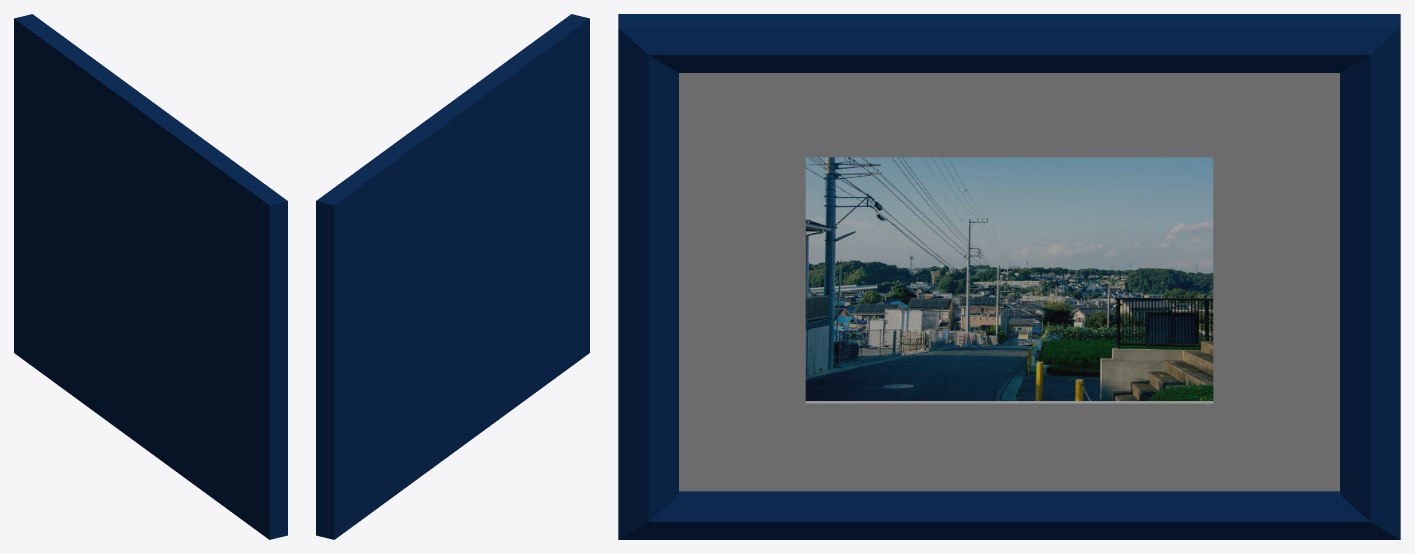
Rendered from photoframe2.obj.
3 views of the same model, side by side, from view 1: azimuth 30°, elevation 25°; view 2: azimuth 150°, elevation 25°; view 3: azimuth 270°, elevation 25° (orthographic). The views are drawn at different scales.
Visible parts, largest first — view 1: Frame_立方体; view 2: Frame_立方体; view 3: Frame_立方体, Photo_立方体.001.
Part boxes in pixels (x1=…): Frame_立方体: x1=14, y1=14, x2=287, y2=539; Frame_立方体: x1=316, y1=14, x2=589, y2=539; Frame_立方体: x1=618, y1=14, x2=1400, y2=539; Photo_立方体.001: x1=805, y1=157, x2=1213, y2=400.
Bounding box in the file's own units: 0.02 × 0.26 × 0.36.
3 materials, 1 textured.
